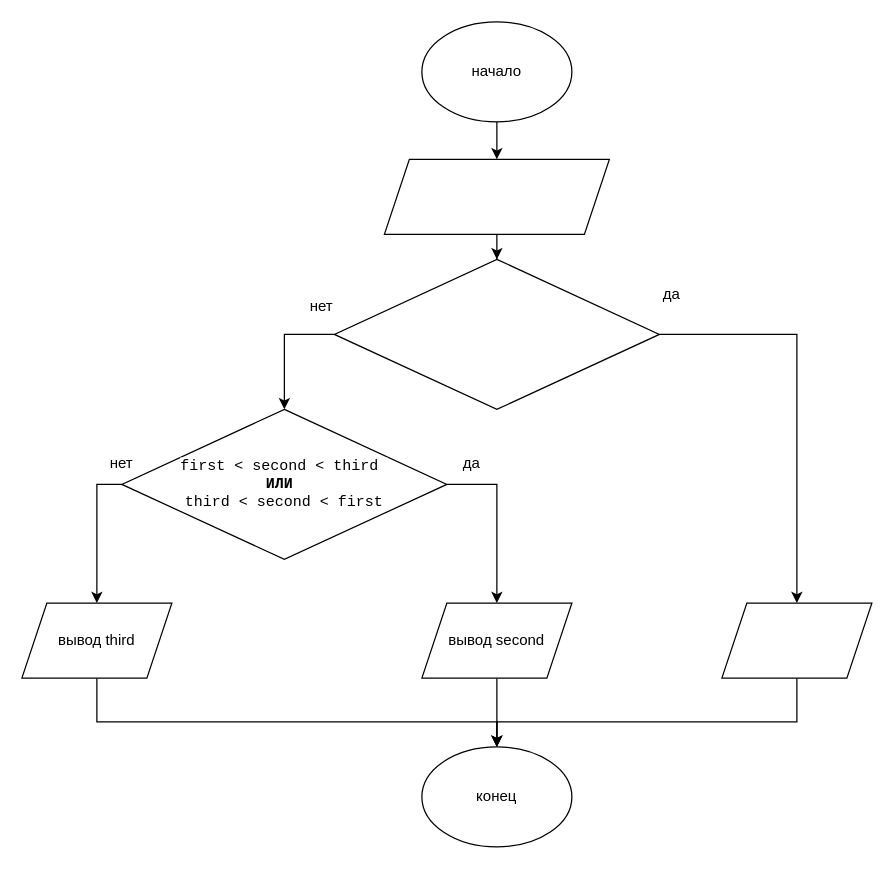
The diagram is 894 pixels wide and 869 high, and some of its shapes have lost their labels. Each missing label, with the centre of its shape:
"second < first < third ИЛИ third < first < second" belongs at [496,333].
"ввод first, second, third" belongs at [496,196].
"вывод first" belongs at [796,640].
